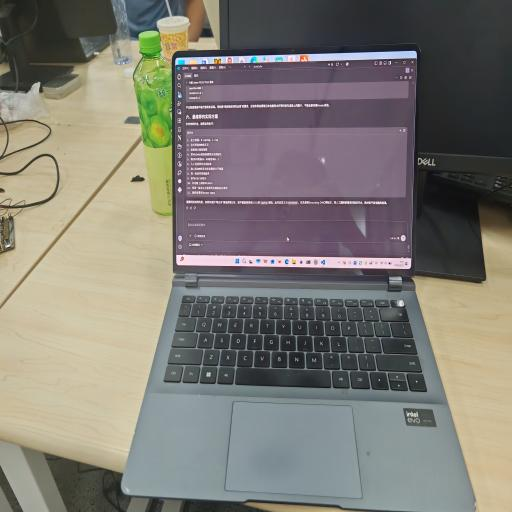laptop: (122, 44, 476, 512), (152, 118, 160, 124), (148, 76, 152, 80), (440, 85, 442, 87), (162, 120, 163, 122), (170, 183, 170, 187), (150, 134, 150, 136), (156, 116, 156, 117), (163, 93, 163, 94), (164, 92, 164, 92), (440, 78, 440, 79), (157, 77, 157, 78)
